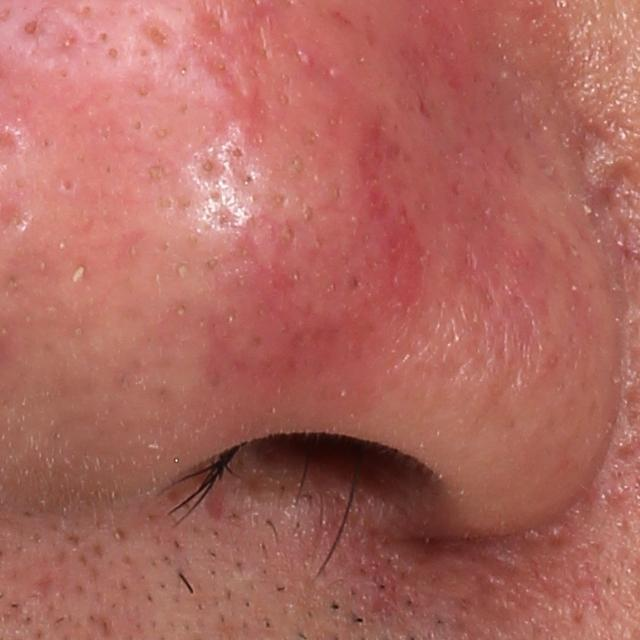comedo: (60, 177, 75, 195)
